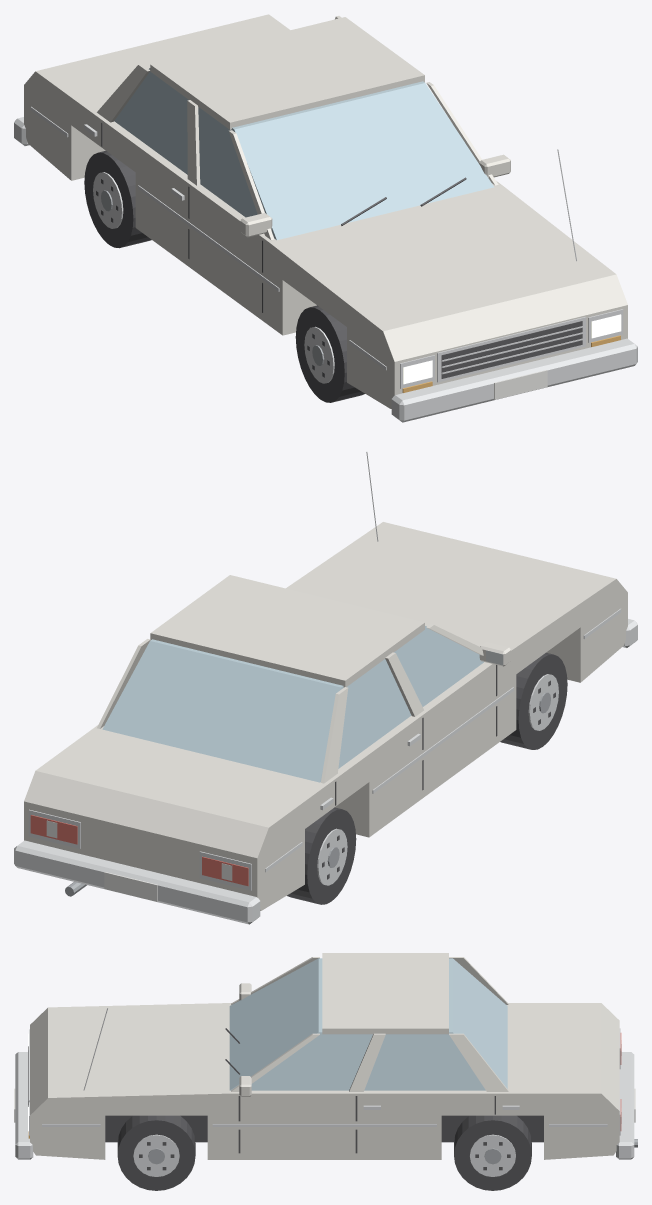
Rendered from car_sedan_w.glb.
3 renders of one model, top to bottom at view 1: azimuth 30°, elevation 25°; view 2: azimuth 150°, elevation 25°; view 3: azimuth 270°, elevation 25°, orthographic. The views are drawn at different scales.
Visible parts, largest first — view 1: car_sedan_w_car_w, car_sedan_w_glass, car_sedan_w_chrome, car_sedan_w_rubber, car_sedan_w_dark, car_sedan_w_lamp_glass, car_sedan_w_paint_w; view 2: car_sedan_w_car_w, car_sedan_w_glass, car_sedan_w_chrome, car_sedan_w_rubber, car_sedan_w_neon_r, car_sedan_w_paint_w; view 3: car_sedan_w_car_w, car_sedan_w_glass, car_sedan_w_rubber, car_sedan_w_chrome, car_sedan_w_dark, car_sedan_w_steel.
Boxes of the visible parts, x1,y1,x2,y2 form: car_sedan_w_car_w: (24,14,627,408); car_sedan_w_glass: (114,68,493,240); car_sedan_w_chrome: (14,106,637,422); car_sedan_w_rubber: (84,150,364,402); car_sedan_w_dark: (96,122,582,378); car_sedan_w_lamp_glass: (403,314,621,384); car_sedan_w_paint_w: (494,370,547,399); car_sedan_w_car_w: (24,522,627,910); car_sedan_w_glass: (102,626,483,782); car_sedan_w_chrome: (14,451,637,924); car_sedan_w_rubber: (287,652,567,904); car_sedan_w_neon_r: (30,815,248,886); car_sedan_w_paint_w: (46,820,232,901); car_sedan_w_car_w: (30,953,619,1159); car_sedan_w_glass: (229,958,507,1090); car_sedan_w_rubber: (105,1115,543,1190); car_sedan_w_chrome: (15,1008,634,1176); car_sedan_w_dark: (28,1028,510,1170); car_sedan_w_steel: (148,1139,637,1164).
Size of the model in its own units: 2 by 1.6 by 5.12.
